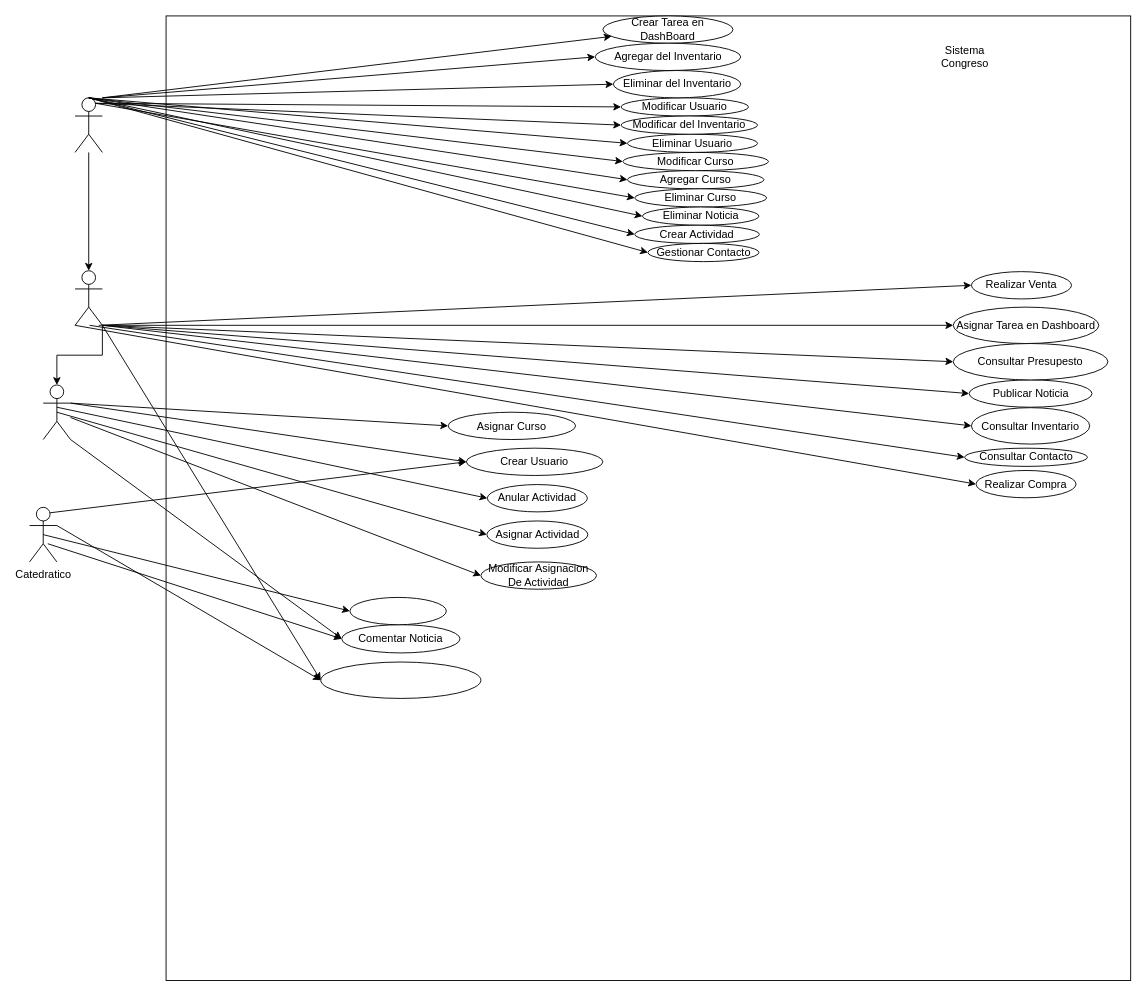
Some shapes in this 1147 by 996 pixel diagram are drawn without their labels. The centre of each missing label's shape, as x and y in pixels:
Administrador: the point at 88,124
Colaborador: the point at 88,297
Estudiante: the point at 56,412
Obtener Reporte: the point at 397,611
Titular en Curso: the point at 400,679
